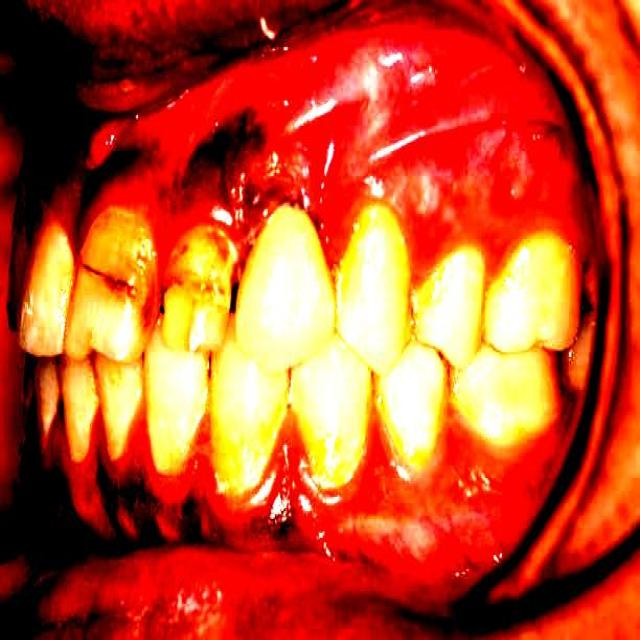caries: (74, 206, 154, 352), (162, 225, 236, 358)
